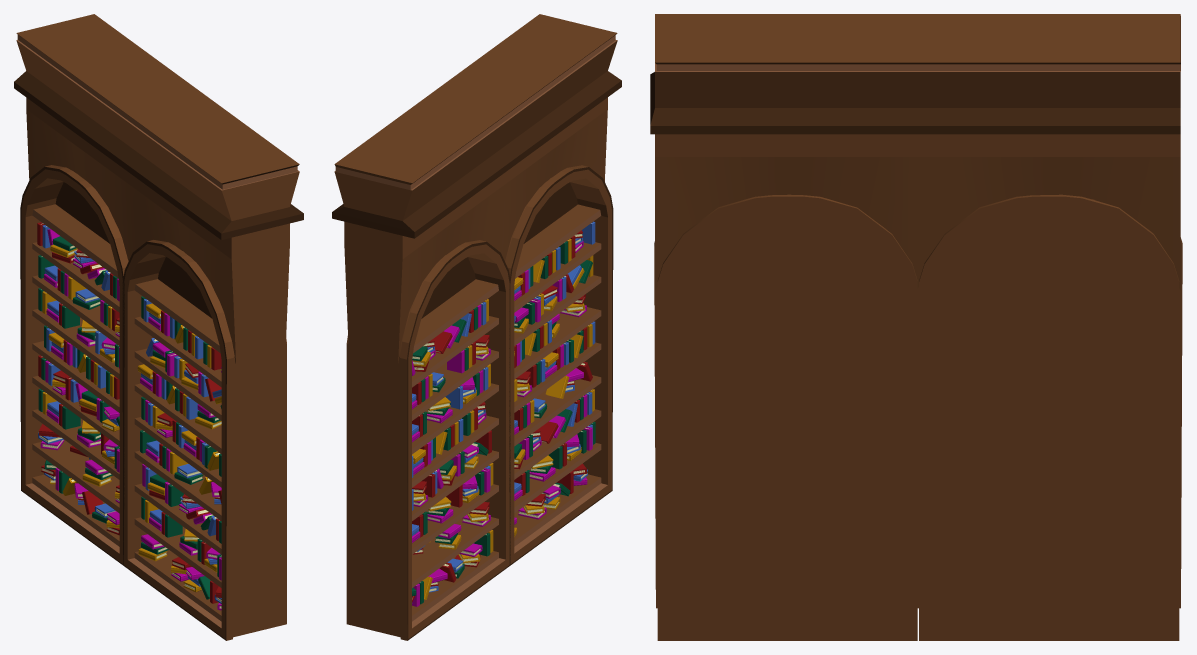
File: no_hekje_kast.fbx
3 views of the same model, side by side, from view 1: azimuth 30°, elevation 25°; view 2: azimuth 150°, elevation 25°; view 3: azimuth 270°, elevation 25° (orthographic). The views are drawn at different scales.
Visible parts, largest first — view 1: main_closet1, books1; view 2: main_closet1, books1; view 3: main_closet1.
Part boxes in pixels (x1,y1,x2,y2): main_closet1: (14, 14, 303, 640); books1: (37, 222, 221, 610); main_closet1: (332, 14, 621, 640); books1: (412, 221, 595, 606); main_closet1: (650, 14, 1182, 640).
Bounding box in the file's own units: 2.75 × 14.6 × 12.
